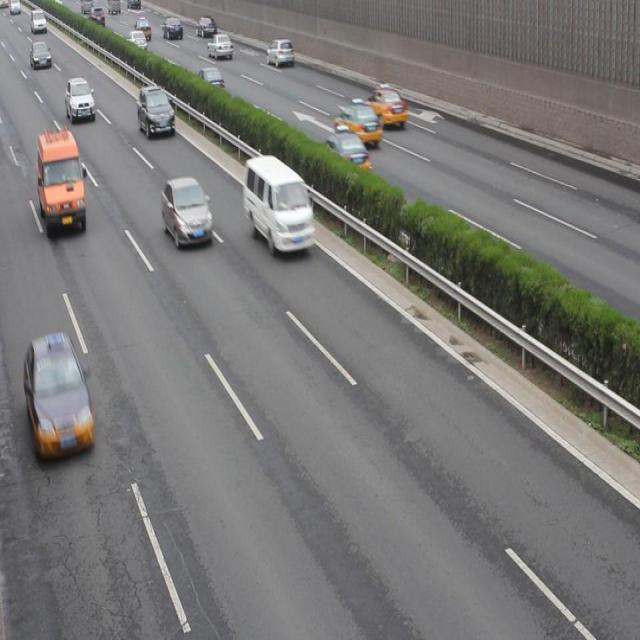car: (26, 335, 94, 460), (162, 176, 212, 246), (319, 125, 370, 177), (335, 99, 382, 146), (364, 82, 407, 130), (138, 84, 174, 136), (65, 77, 96, 122), (195, 69, 224, 95), (266, 38, 293, 65), (208, 33, 230, 59), (161, 16, 182, 42), (30, 41, 51, 67), (126, 30, 146, 53), (197, 14, 215, 39), (134, 19, 152, 41)
truck: (242, 153, 314, 252), (39, 130, 85, 232)
